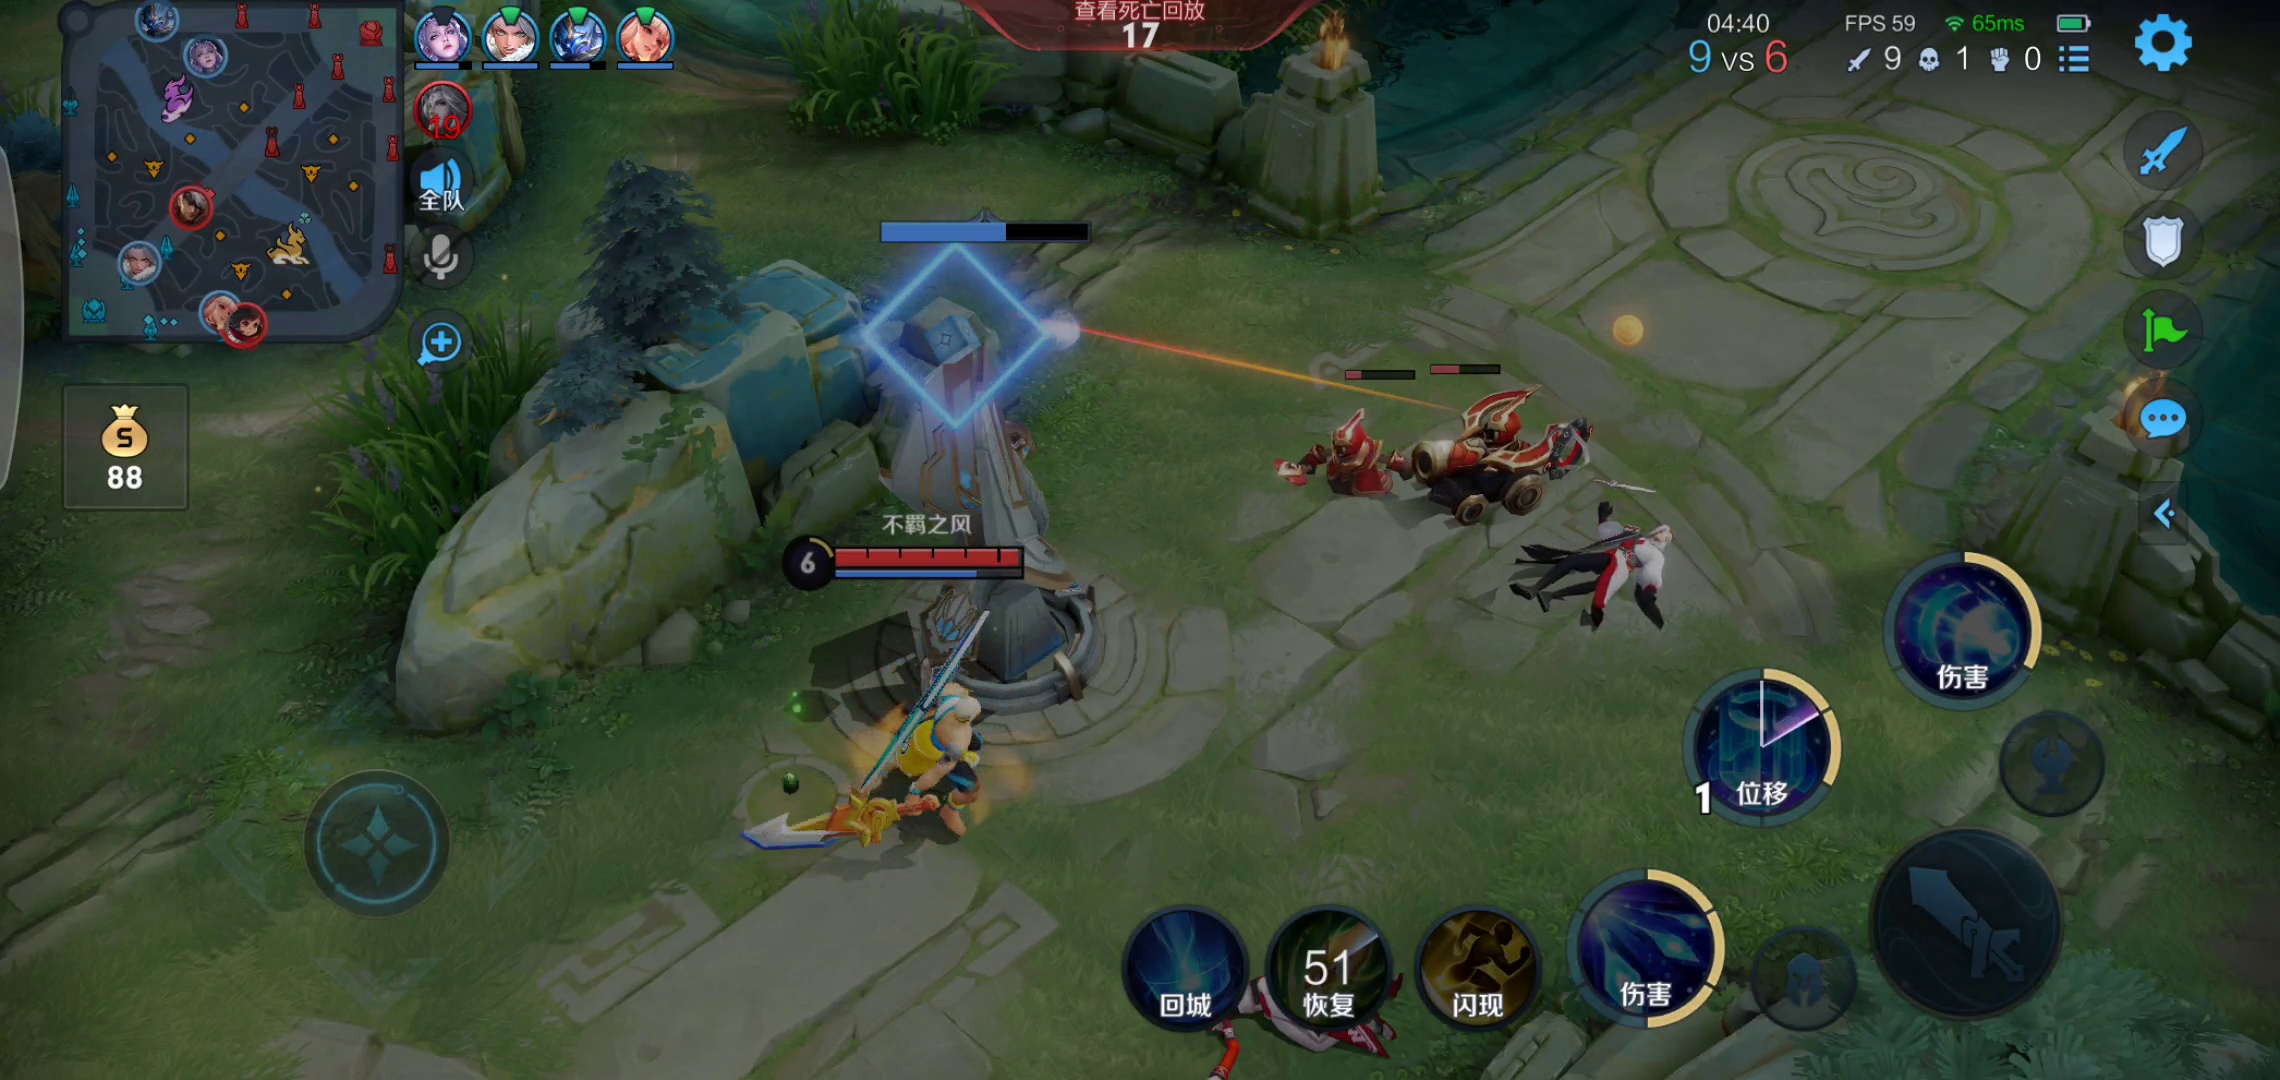grass: (329, 339, 519, 592), (765, 12, 1018, 137)
hero: (813, 680, 1003, 861), (1533, 512, 1691, 637)
soldier: (1422, 392, 1565, 523), (1265, 392, 1393, 510)
tower: (823, 291, 1105, 696)
